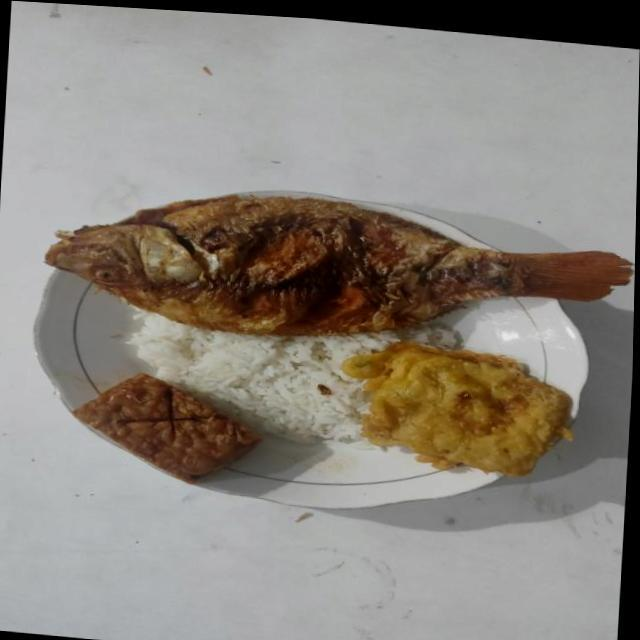ikan_mujair: (45, 194, 632, 336)
nasi_putih: (124, 308, 460, 450)
tempe_goreng: (72, 373, 261, 482)
